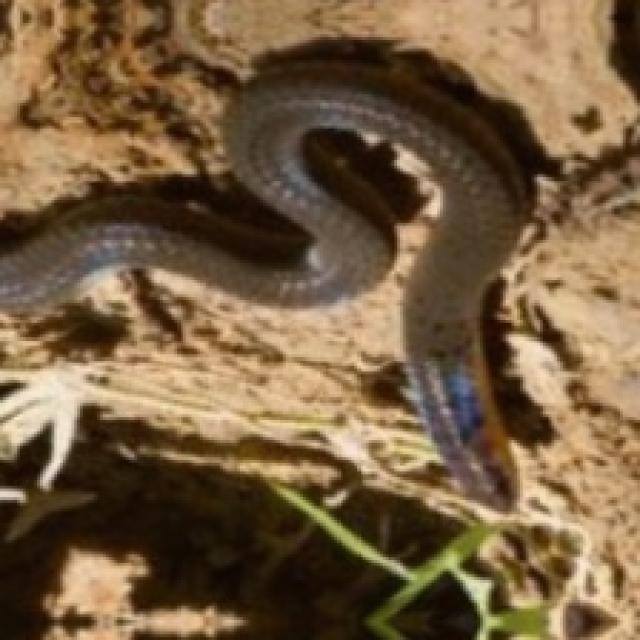gervais worm snake: (0, 37, 557, 509)
